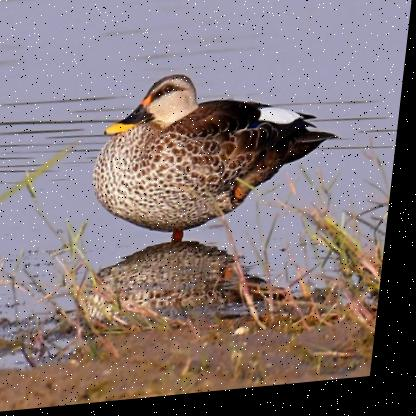Burung: (90, 65, 348, 250)
